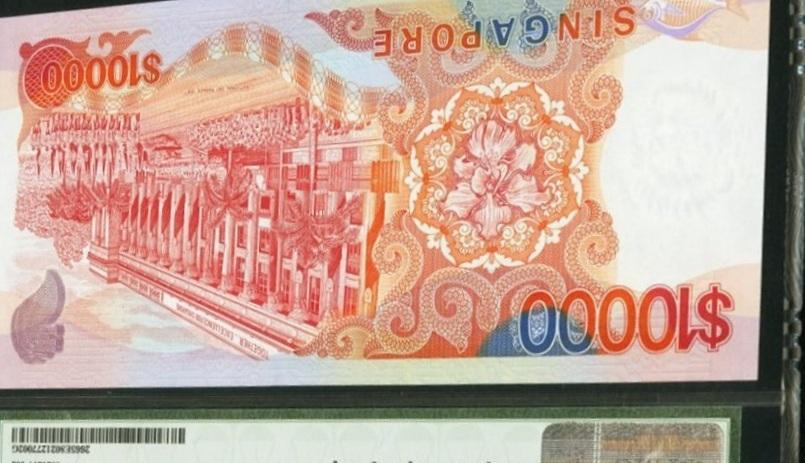10000SingaporeDollar: (0, 0, 757, 380)
